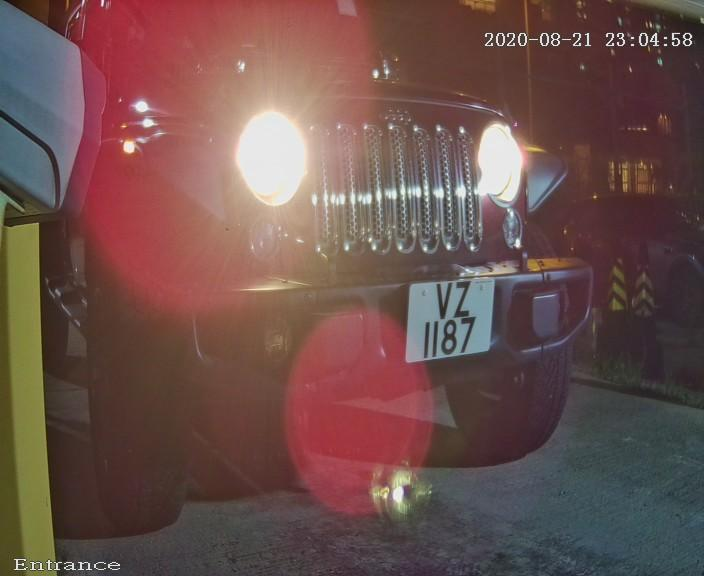Car: (32, 3, 651, 520)
License Plate: (390, 245, 503, 381)
